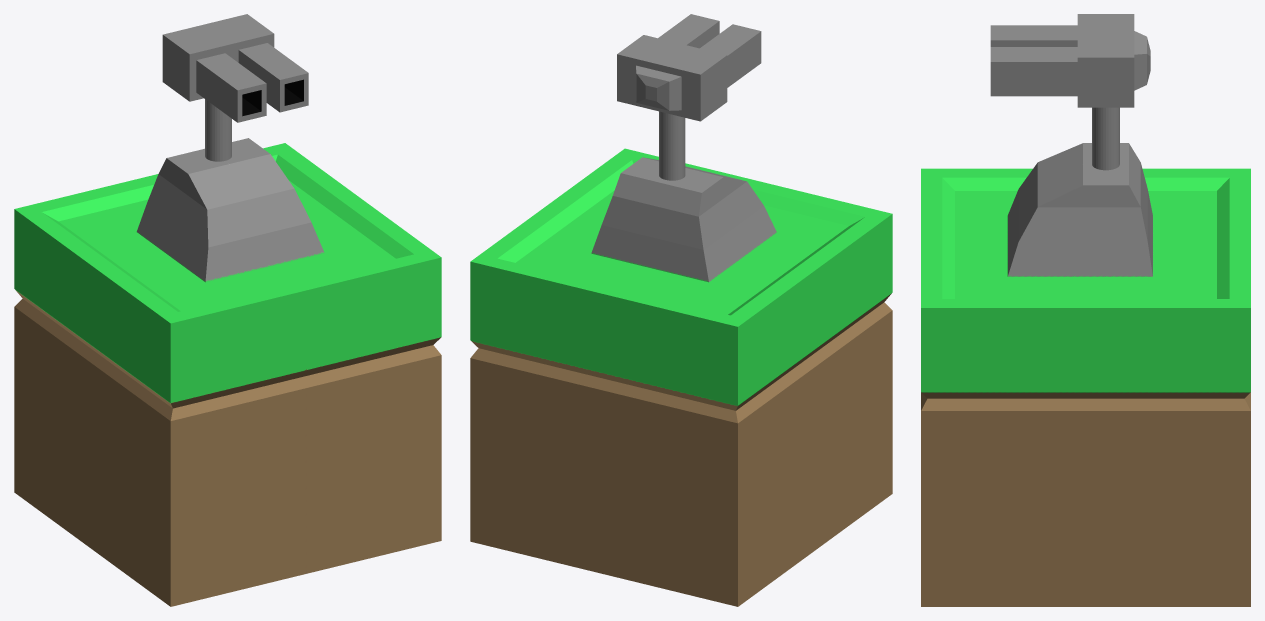
File: Tile_Tower_2.fbx
The picture shows the model from 3 angles, left to right: view 1: azimuth 30°, elevation 25°; view 2: azimuth 150°, elevation 25°; view 3: azimuth 270°, elevation 25°; orthographic projection. The views are drawn at different scales.
Visible parts, largest first — view 1: Base, Head; view 2: Base, Head; view 3: Base, Head.
Part boxes in pixels (box(x1,y1,x2,y2)): Base: box(14, 99, 441, 606); Head: box(162, 14, 308, 122); Base: box(470, 111, 892, 606); Head: box(617, 14, 761, 121); Base: box(921, 107, 1250, 606); Head: box(990, 14, 1150, 107).
Bounding box in the file's own units: 200 × 336 × 200.
